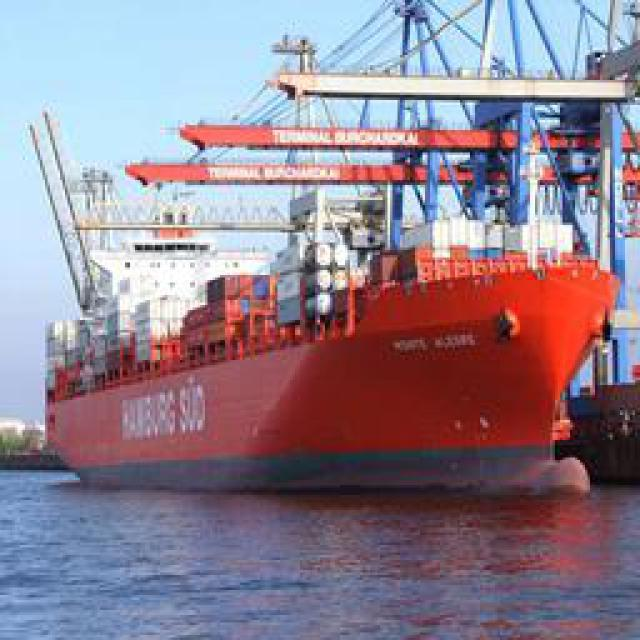Ship: (31, 76, 640, 502)
